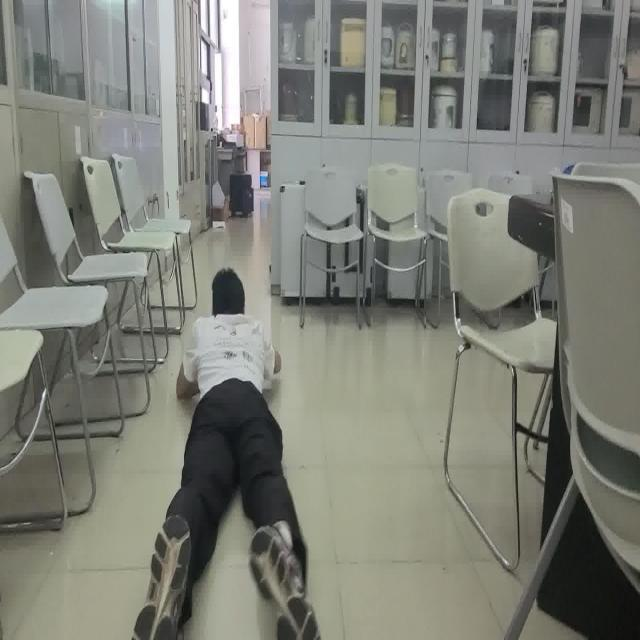fall: (124, 272, 324, 640)
